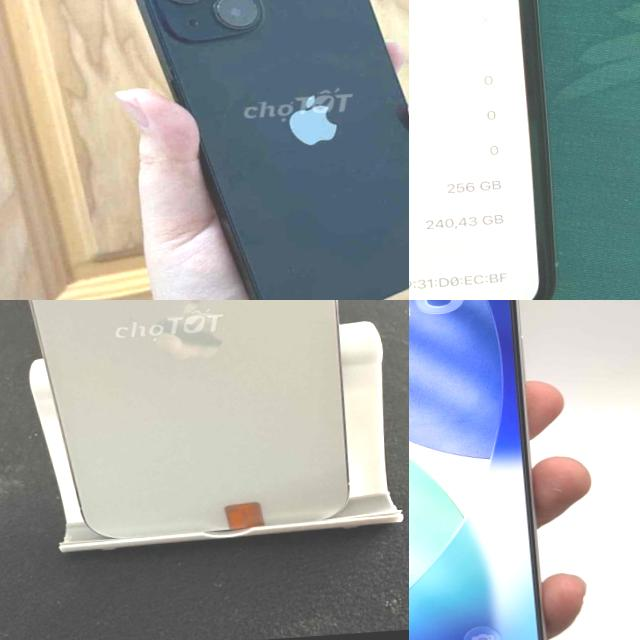gen_12_13: (123, 0, 409, 300)
gen_15: (0, 300, 409, 553), (409, 300, 571, 640)
gen_x_xs: (409, 0, 571, 300)
